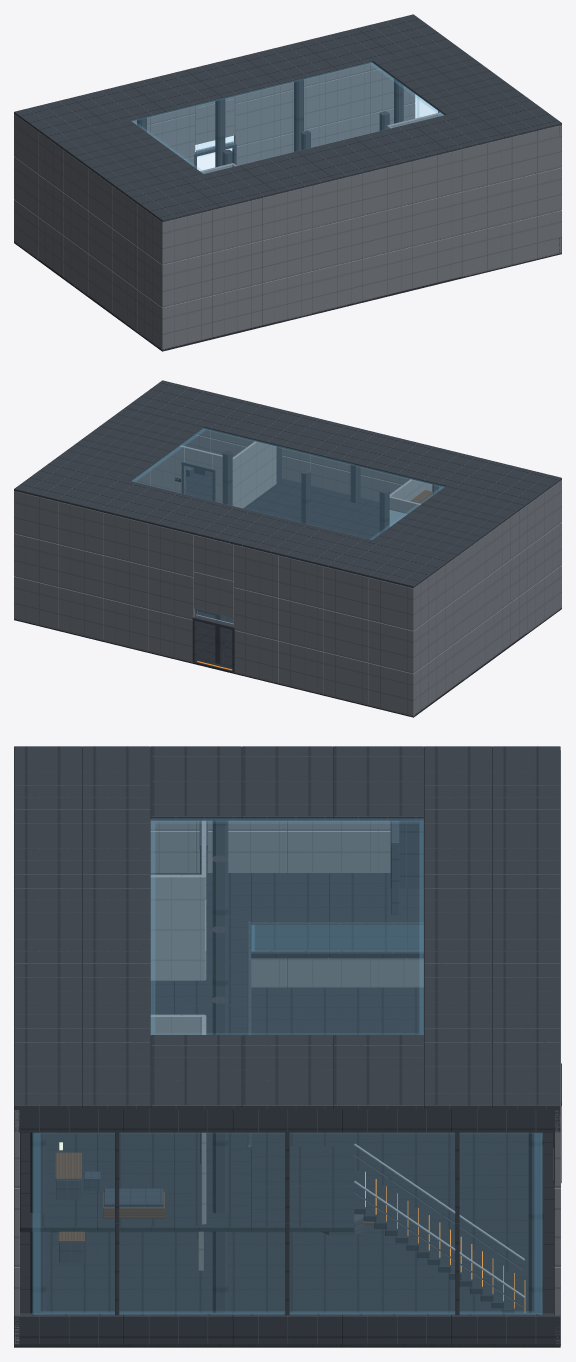
Rendered from preface_residential_sector.glb.
The picture shows the model from 3 angles, top to bottom: view 1: azimuth 30°, elevation 25°; view 2: azimuth 150°, elevation 25°; view 3: azimuth 270°, elevation 25°; orthographic projection. The views are drawn at different scales.
Parts seen in each view (by area): view 1: Residential_Hallway_Atrium, Ground_Service_Vestibule; view 2: Residential_Hallway_Atrium, Ground_Service_Vestibule, Upper_Mezzanine_Walkway, Room_2B_Neighbor_Balcony_Suite, Tech_Apartment_Upper, Open_Portal_Sector_Exit, Open_Portal_202; view 3: Residential_Hallway_Atrium, Upper_Mezzanine_Walkway, Stair_Ramp_Connector, Tech_Apartment_Upper, Room_2B_Neighbor_Balcony_Suite, Ground_Service_Vestibule, Alcove_2C_Upper_Vent_Chase, Side_Room_West_Storage, Open_Arch_2C.
Part boxes in pixels (x1,y1,x2,y2): Residential_Hallway_Atrium: [14, 14, 561, 351]; Ground_Service_Vestibule: [14, 63, 415, 240]; Residential_Hallway_Atrium: [14, 380, 561, 717]; Ground_Service_Vestibule: [14, 491, 415, 716]; Upper_Mezzanine_Walkway: [186, 472, 379, 539]; Room_2B_Neighbor_Balcony_Suite: [133, 441, 276, 508]; Tech_Apartment_Upper: [389, 479, 432, 526]; Open_Portal_Sector_Exit: [192, 616, 234, 672]; Open_Portal_202: [174, 461, 215, 501]; Residential_Hallway_Atrium: [14, 746, 560, 1347]; Upper_Mezzanine_Walkway: [20, 873, 423, 1231]; Stair_Ramp_Connector: [353, 1143, 525, 1313]; Tech_Apartment_Upper: [150, 820, 206, 980]; Room_2B_Neighbor_Balcony_Suite: [55, 1014, 206, 1224]; Ground_Service_Vestibule: [553, 750, 560, 1345]; Alcove_2C_Upper_Vent_Chase: [390, 820, 423, 888]; Side_Room_West_Storage: [52, 1231, 203, 1270]; Open_Arch_2C: [391, 820, 399, 914].
Size of the model in its own units: 28 by 8.91 by 18.04.
4 materials, 4 textured.
